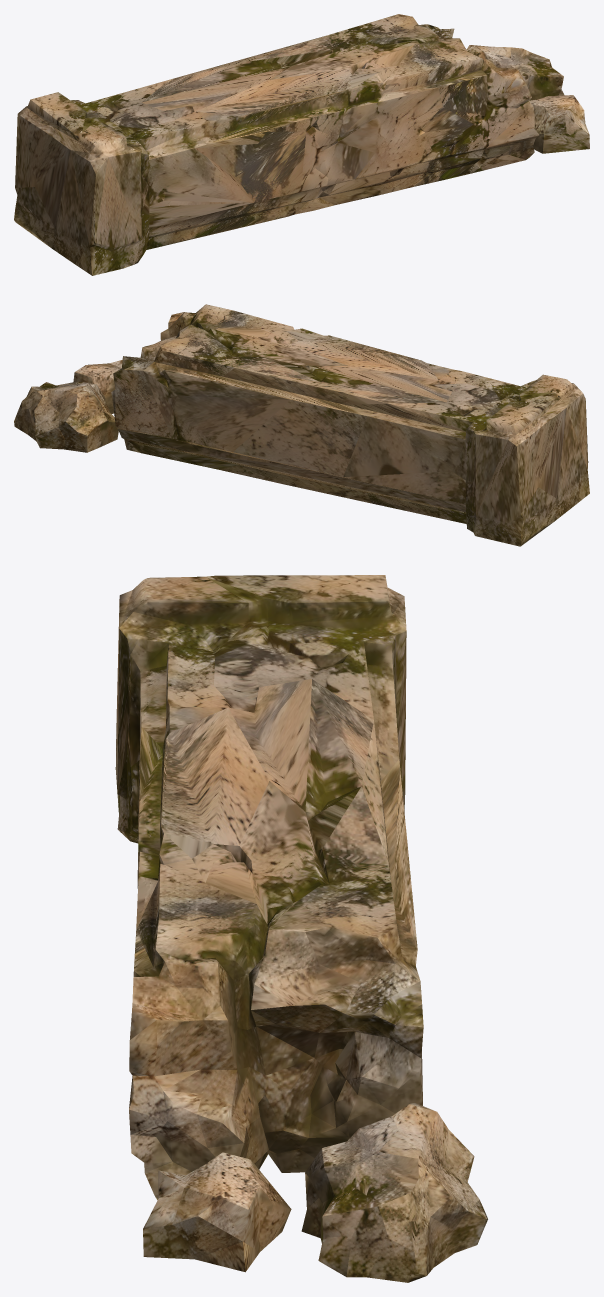
Rendered from ARQ_ColumnaDerrumbada_01_LOD2.fbx.
The picture shows the model from 3 angles, top to bottom: view 1: azimuth 30°, elevation 25°; view 2: azimuth 150°, elevation 25°; view 3: azimuth 270°, elevation 25°; orthographic projection. The views are drawn at different scales.
Parts seen in each view (by area): view 1: ARQ_ColumnaDerrumbada_01_Mesh000; view 2: ARQ_ColumnaDerrumbada_01_Mesh000; view 3: ARQ_ColumnaDerrumbada_01_Mesh000.
Boxes of the visible parts, x1=… form: ARQ_ColumnaDerrumbada_01_Mesh000: x1=14, y1=14, x2=589, y2=275; ARQ_ColumnaDerrumbada_01_Mesh000: x1=14, y1=304, x2=589, y2=546; ARQ_ColumnaDerrumbada_01_Mesh000: x1=115, y1=575, x2=487, y2=1282.
Bounding box in the file's own units: 3.2 × 0.7099 × 1.03.
